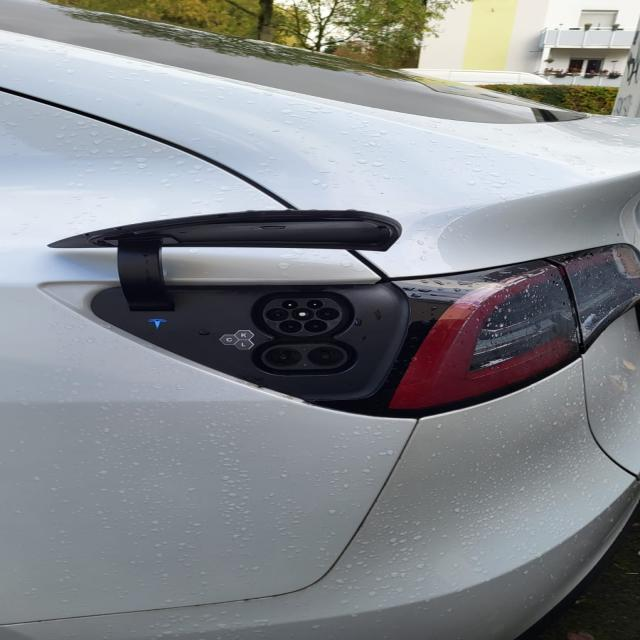inlet: (263, 298, 342, 336)
inlet-above-left: (282, 300, 298, 309)
inlet-above-right: (306, 300, 323, 309)
inlet-below-right: (304, 320, 327, 333)
inlet-circle: (291, 308, 314, 320)
inlet-circle-left: (266, 308, 289, 321)
inlet-circle-right: (316, 308, 339, 320)
inlet-minus: (307, 347, 343, 367)
inlet-plus: (265, 347, 302, 368), (279, 320, 302, 333)
